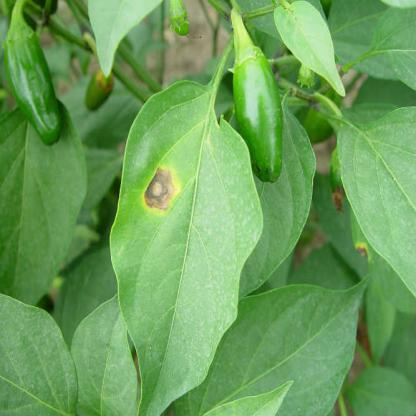bell pepper leaf spot: (112, 81, 256, 415)
